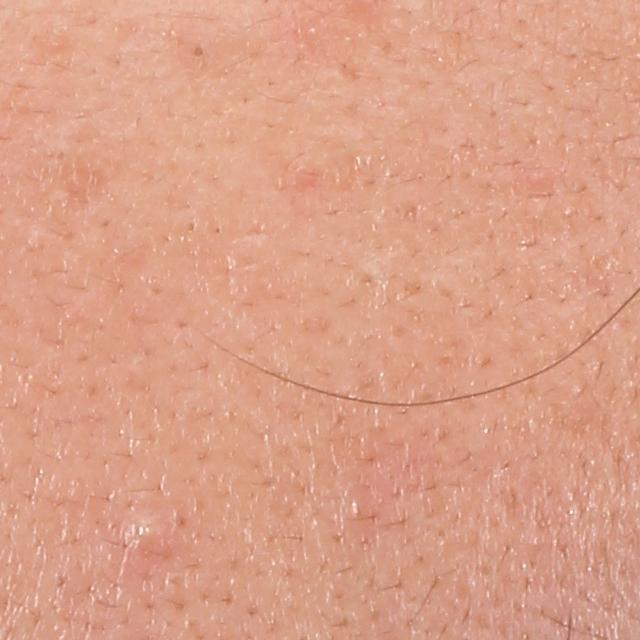comedo: (347, 498, 367, 524), (190, 40, 210, 66)
papule: (113, 507, 169, 567)
